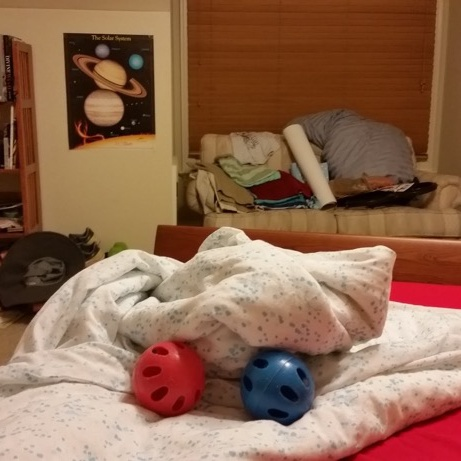ball: (129, 336, 212, 416), (235, 346, 318, 424)
